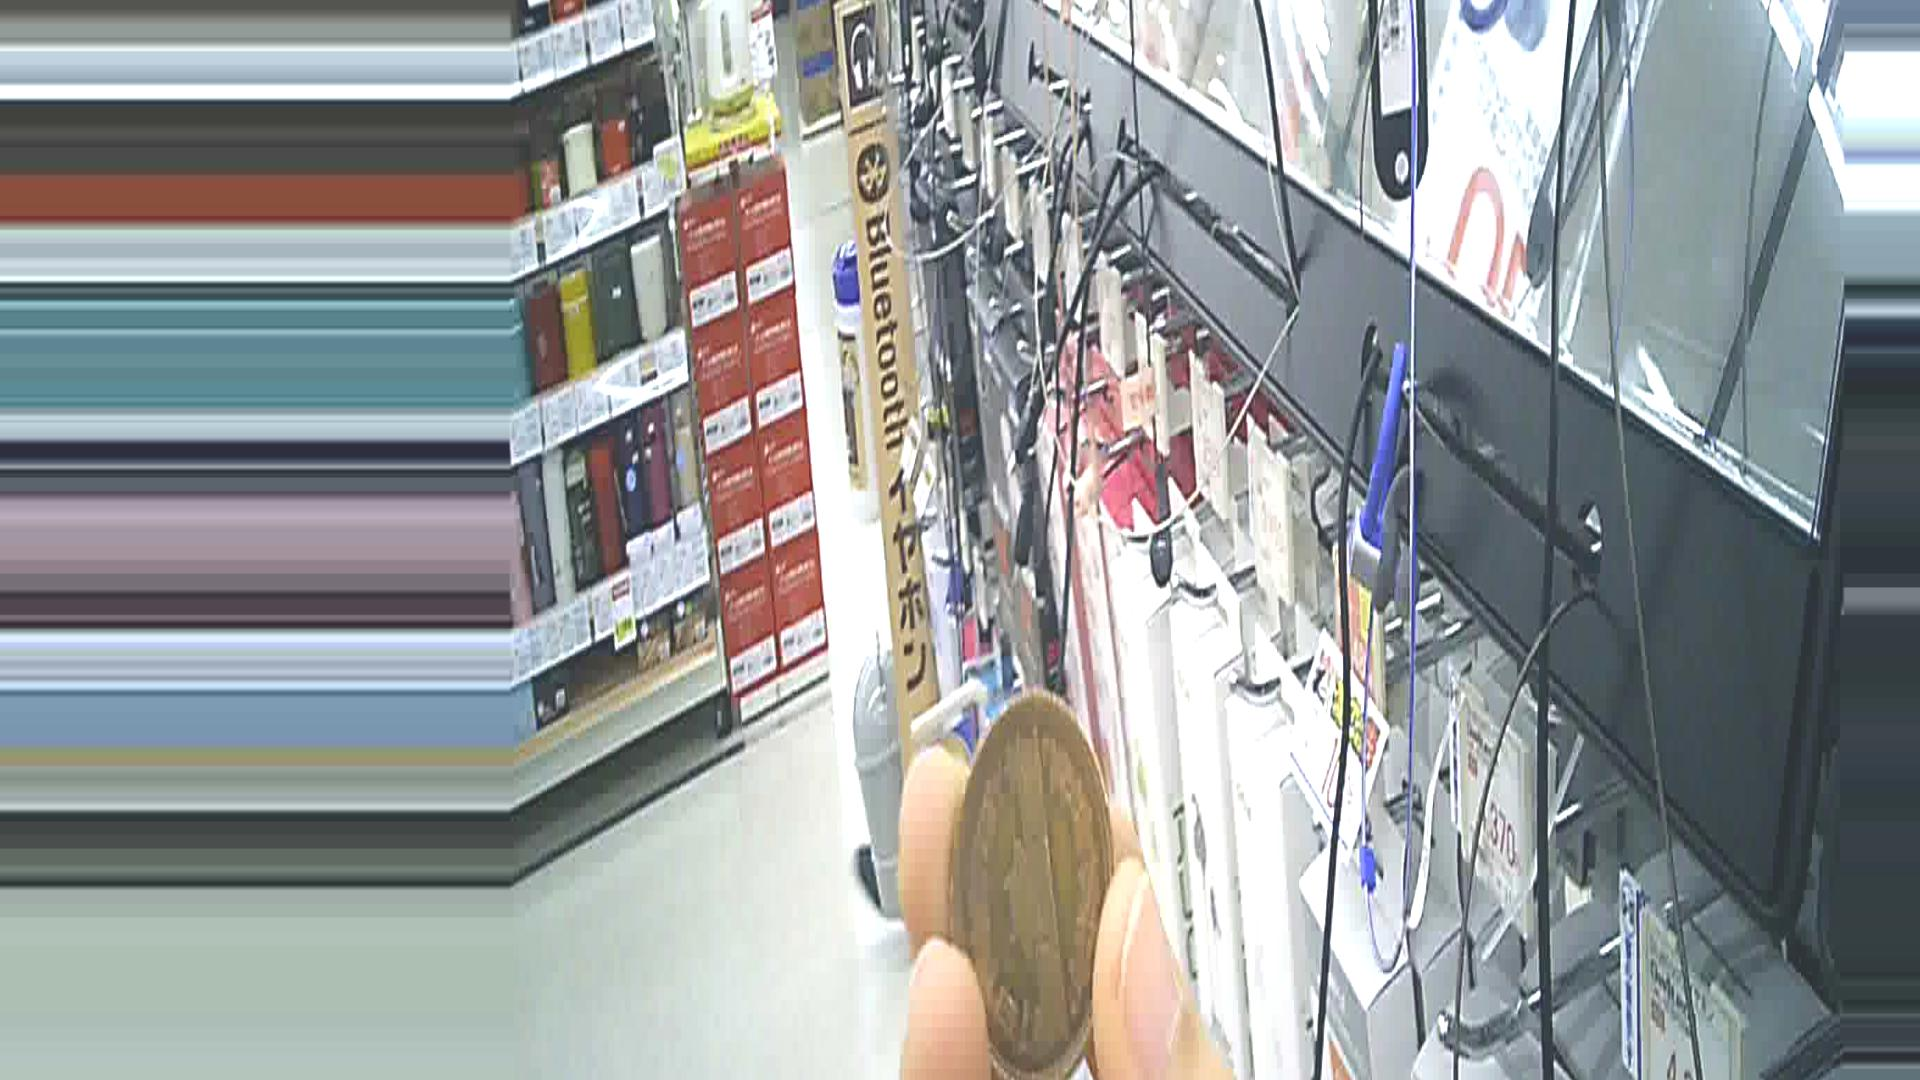10 Yen: (930, 700, 1134, 1079)
